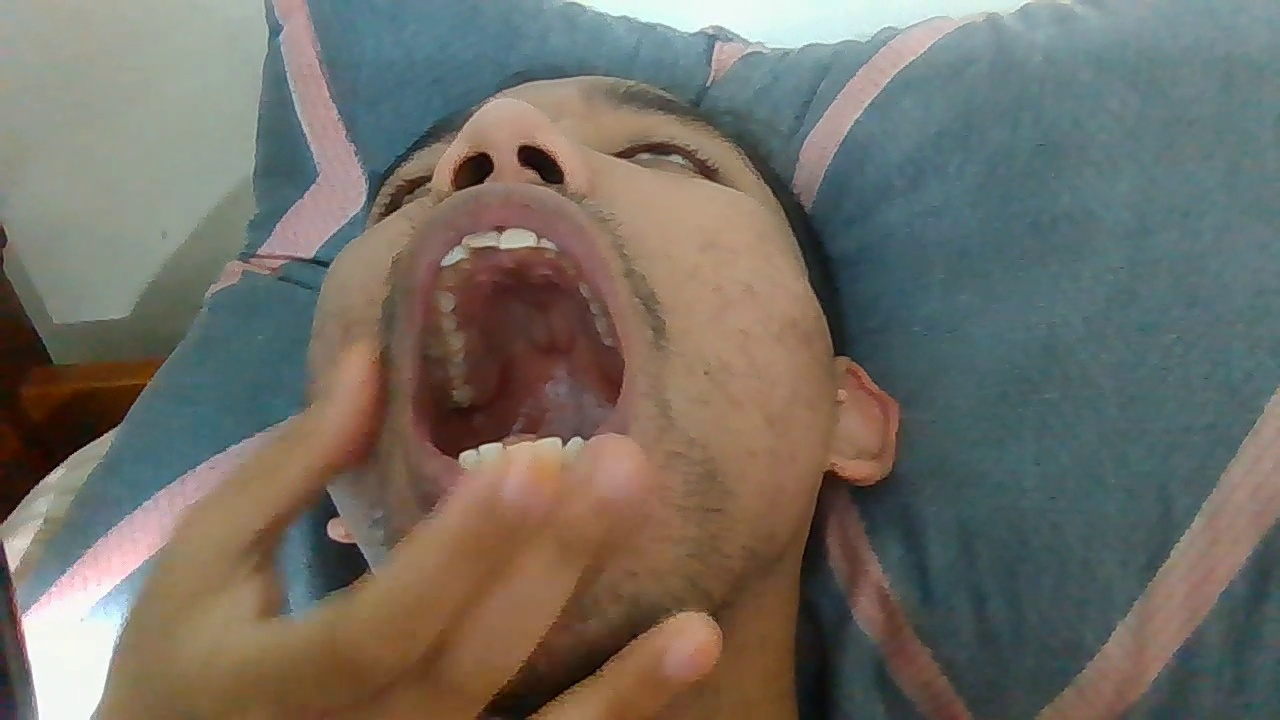1st Molar: (423, 333, 466, 360)
1st Premolar: (424, 290, 457, 312)
2nd Molar: (430, 361, 467, 387)
2nd Premolar: (422, 313, 458, 333)
3rd Molar: (445, 388, 478, 407)
Central Incisor: (460, 227, 500, 251), (501, 227, 539, 251), (478, 442, 504, 455)
Lateral Incisor: (440, 244, 470, 266), (536, 436, 562, 448), (459, 448, 479, 462)
